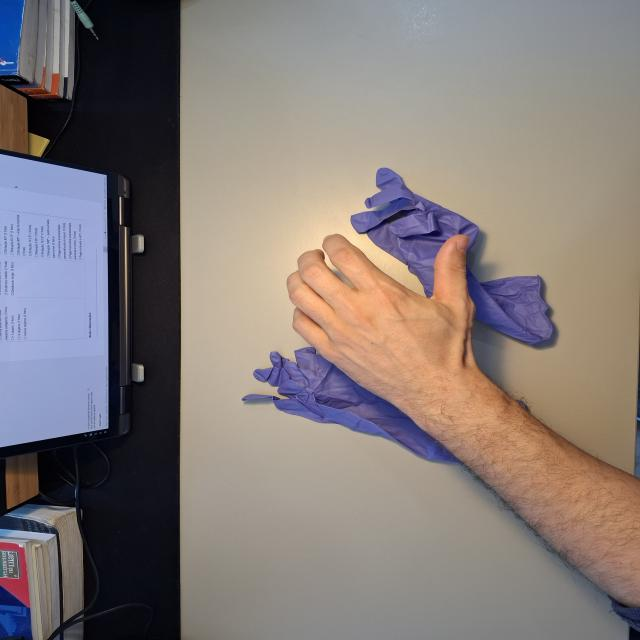glove_off: (283, 232, 477, 408)
